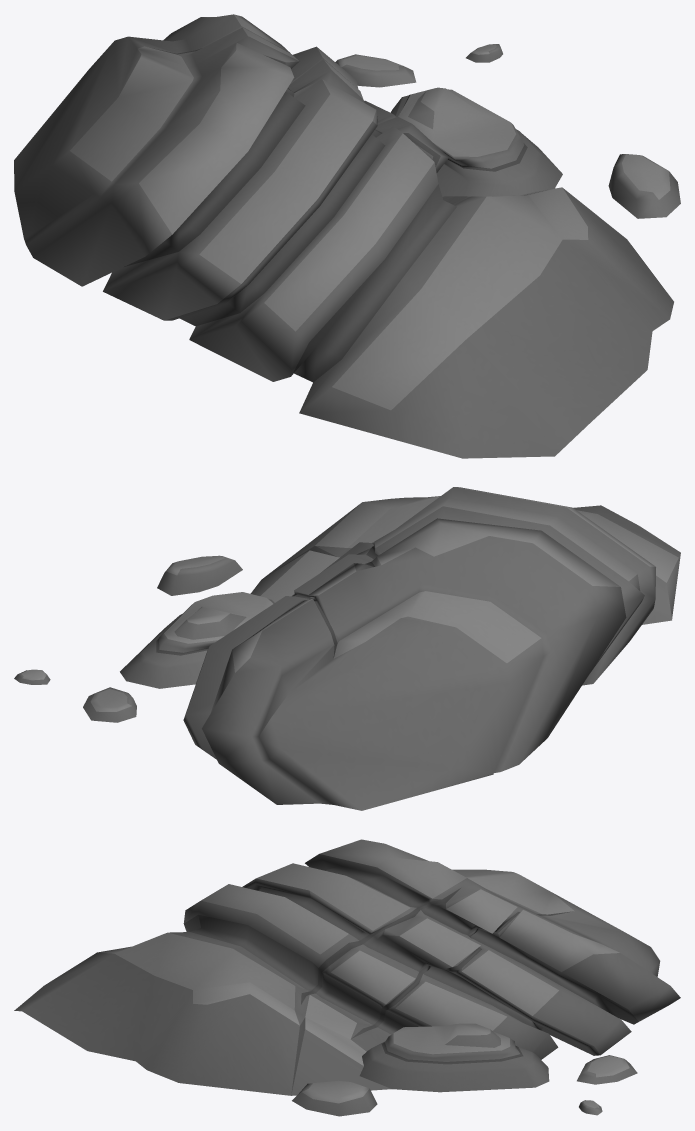
File: Rock_02.fbx
3 renders of one model, top to bottom at view 1: azimuth 30°, elevation 25°; view 2: azimuth 150°, elevation 25°; view 3: azimuth 270°, elevation 25°, orthographic. The views are drawn at different scales.
Parts seen in each view (by area): view 1: Rock_02; view 2: Rock_02; view 3: Rock_02.
Part boxes in pixels (left/top/right/bottom): Rock_02: left=14, top=14, right=680, bottom=458; Rock_02: left=14, top=487, right=680, bottom=810; Rock_02: left=14, top=839, right=680, bottom=1116.
Size of the model in its own units: 31.11 by 12 by 45.57.
1 material, 1 textured.
